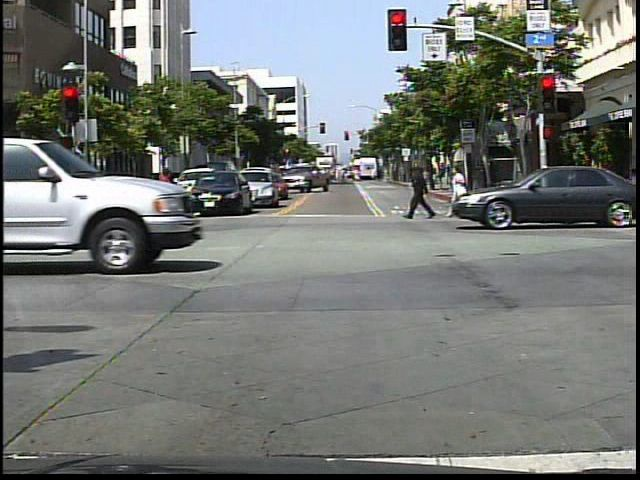person: (407, 159, 441, 223), (446, 159, 473, 209), (157, 166, 180, 188)
